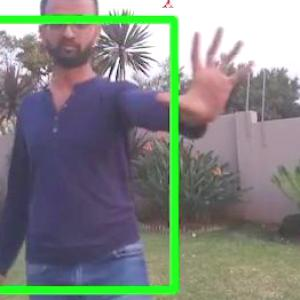follow_hand: (157, 19, 260, 126)
